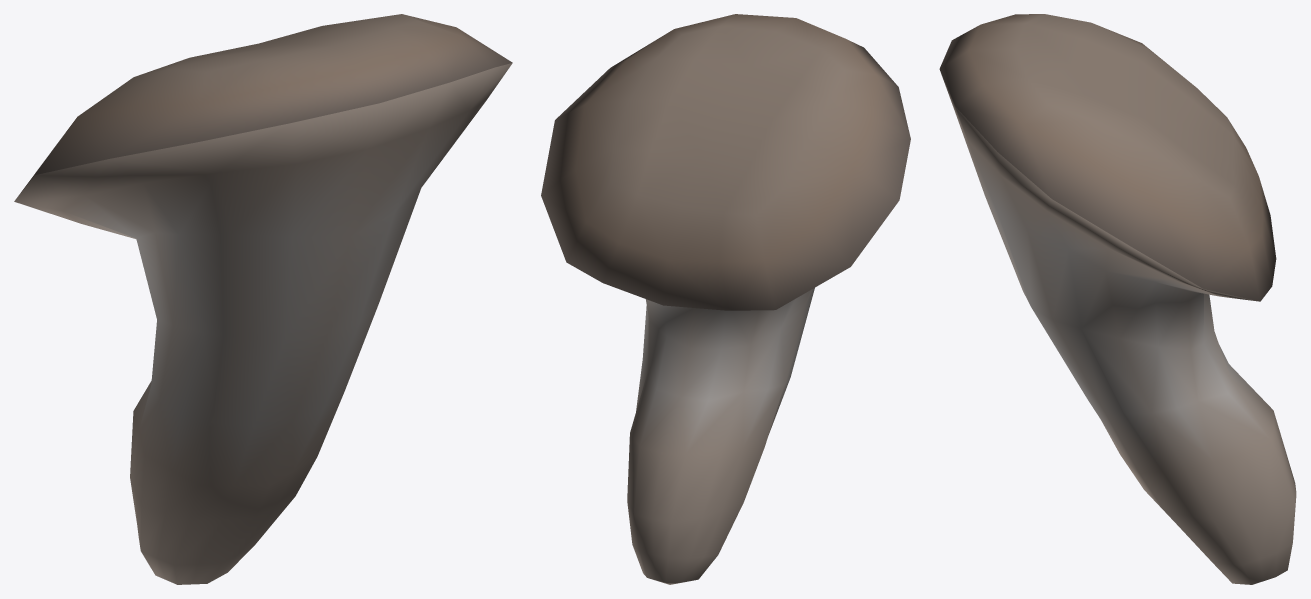
File: plants-mushrooms-funnel-mushroom_v3.glb
3 views of the same model, side by side, from view 1: azimuth 30°, elevation 25°; view 2: azimuth 150°, elevation 25°; view 3: azimuth 270°, elevation 25° (orthographic). The views are drawn at different scales.
Parts seen in each view (by area): view 1: Funnel Mushroom_v3; view 2: Funnel Mushroom_v3; view 3: Funnel Mushroom_v3.
Part boxes in pixels (x1,y1,x2,y2): Funnel Mushroom_v3: (14,14,512,584); Funnel Mushroom_v3: (541,14,910,584); Funnel Mushroom_v3: (939,14,1296,584).
Size of the model in its own units: 0.0909 by 0.12 by 0.0727.
